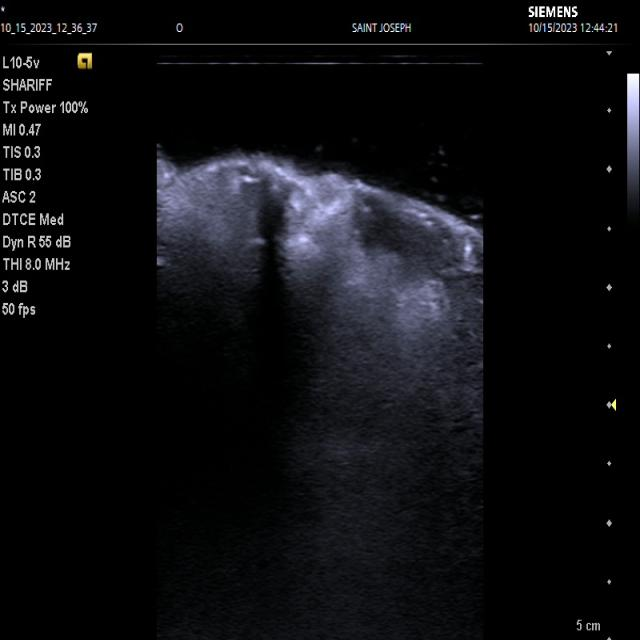tissue: (193, 161, 376, 432)
